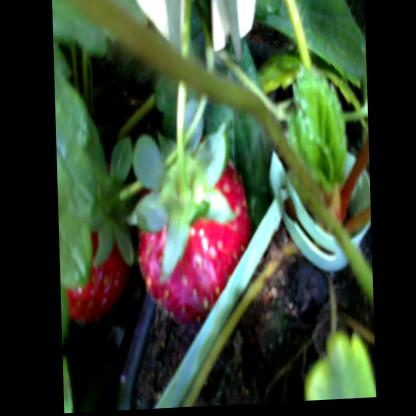ripe: (135, 141, 255, 339), (57, 168, 132, 326)
